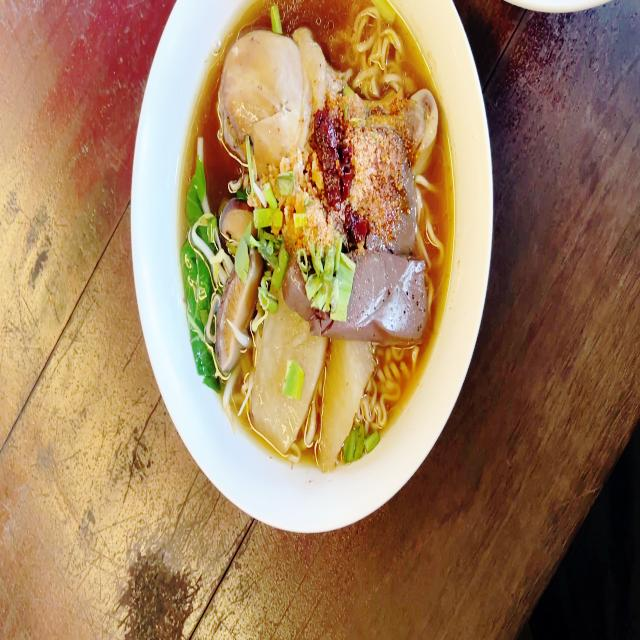boiled_chicken_blood_jelly: (341, 246, 434, 336)
chicken_drumstick: (214, 33, 438, 178)
daikon_radish: (252, 322, 379, 460)
noodle: (168, 0, 458, 459)
